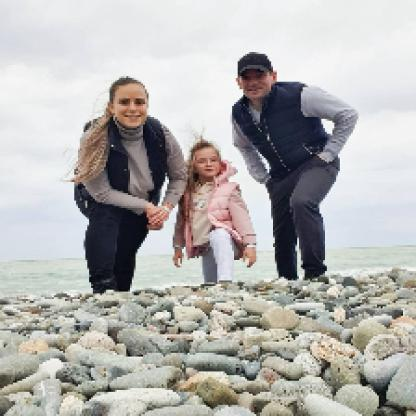child: (171, 141, 259, 284)
